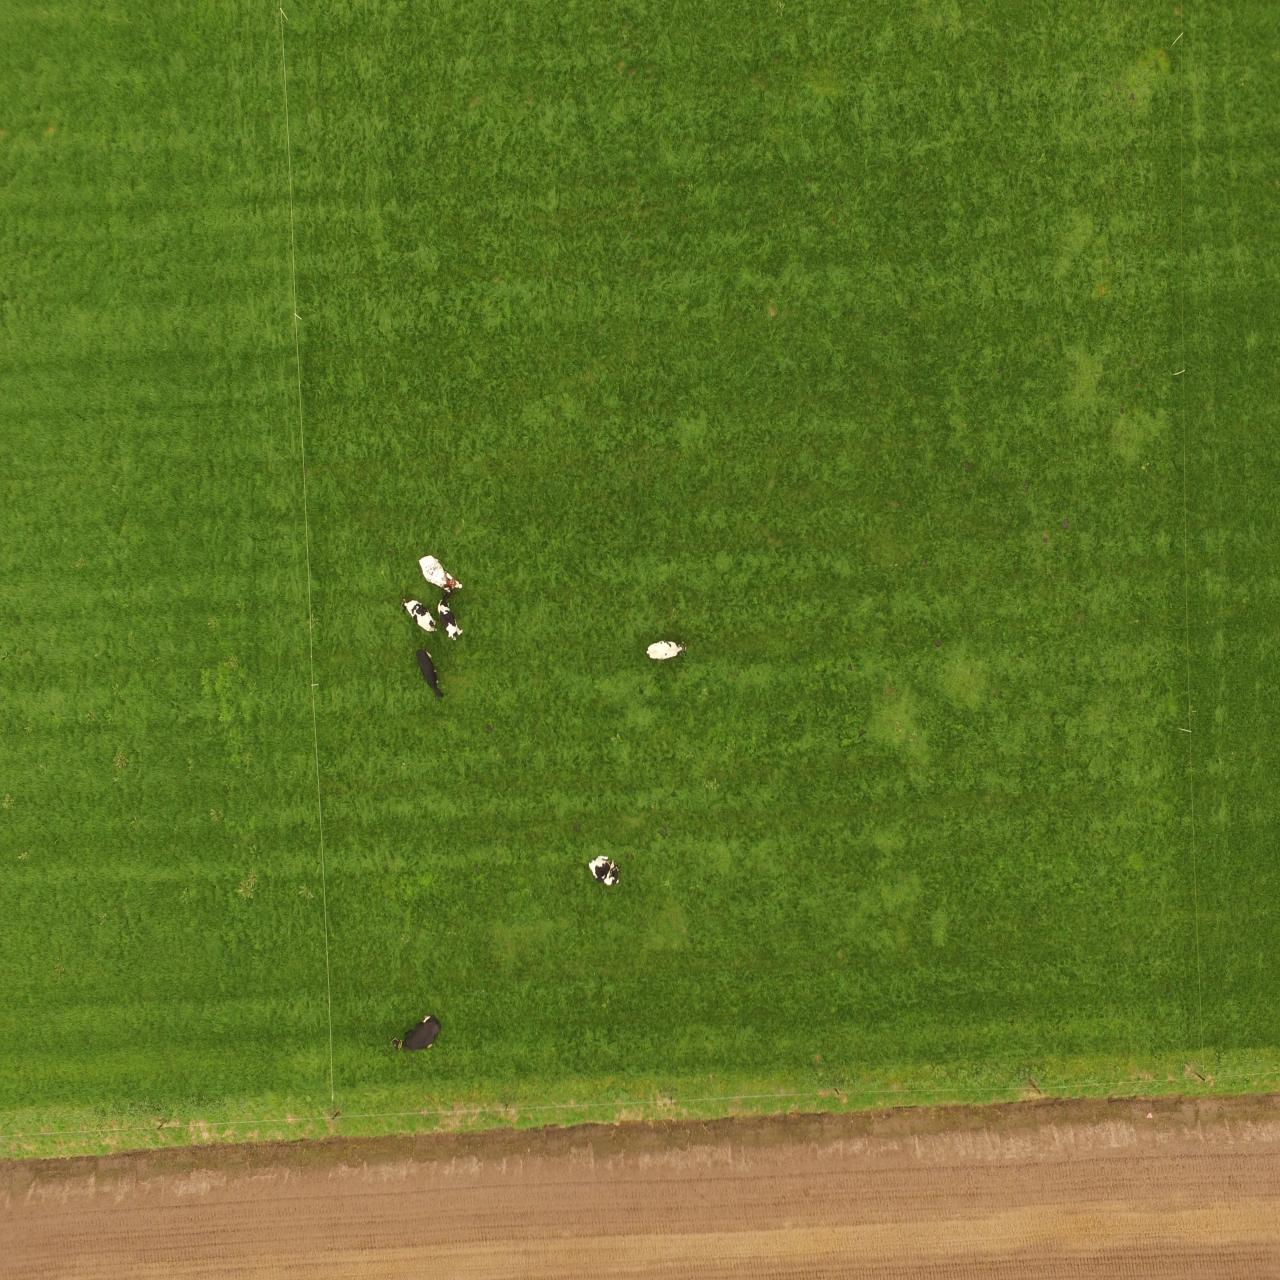cow: (384, 1013, 447, 1054), (414, 646, 450, 710), (408, 551, 464, 591), (640, 639, 697, 669), (397, 595, 440, 636), (442, 591, 470, 651), (584, 853, 621, 894)
